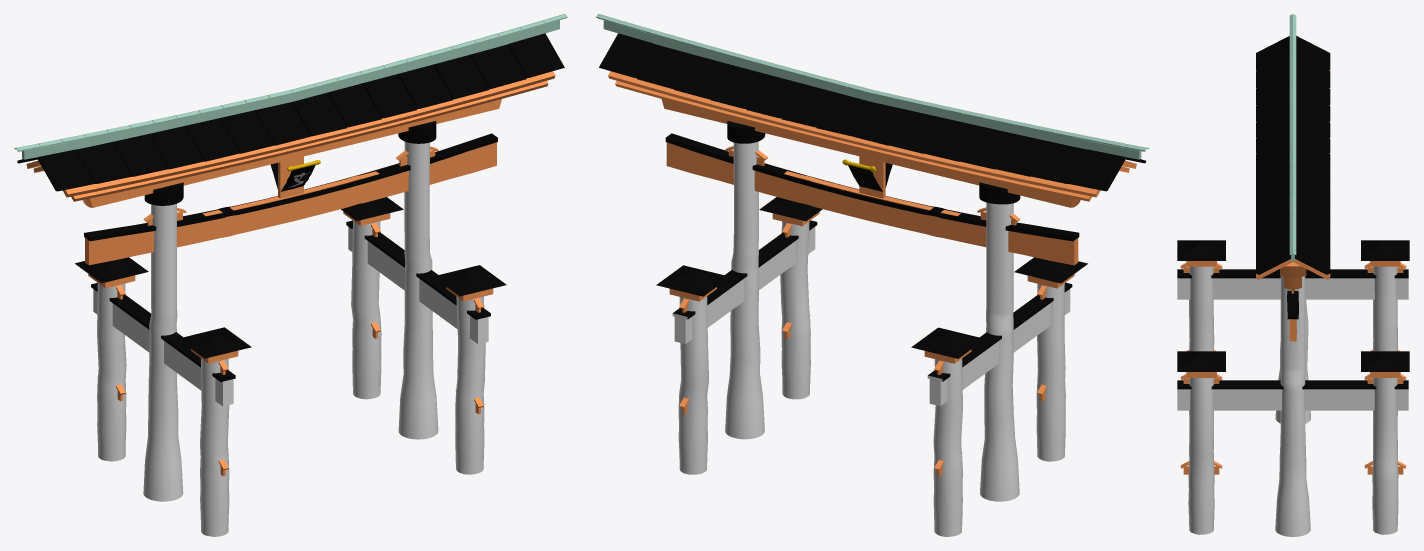
File: Gate3f.fbx
3 renders of one model, left to right at view 1: azimuth 30°, elevation 25°; view 2: azimuth 150°, elevation 25°; view 3: azimuth 270°, elevation 25°, orthographic. The views are drawn at different scales.
Visible parts, largest first — view 1: Cube.006, Cube.011, Cube.010, Cube.007, Cube.017, Cube.009, Cube.012, Cube.002, Cube.001, Cube.005, Cube.004, Cube.025 (+5 smaller); view 2: Cube.006, Cube.011, Cube.010, Cube.007, Cube.017, Cube.009, Cube.012, Cube.001, Cube.002, Cube.005, Cube.004, Cube.025 (+5 smaller); view 3: Cube.006, Cube.012, Cube.009, Cube.010, Cube.011, Cube.005, Cube.073, Plane.001, Cube.001, Cube.016, Cube.017, Cube.025.
Part boxes in pixels (<box>): Cube.006: <box>17,33,564,191</box>; Cube.011: <box>97,221,381,461</box>; Cube.010: <box>200,296,485,536</box>; Cube.007: <box>85,142,496,265</box>; Cube.017: <box>143,203,183,501</box>; Cube.009: <box>398,141,438,439</box>; Cube.012: <box>93,227,488,406</box>; Cube.002: <box>22,20,559,159</box>; Cube.001: <box>82,99,501,363</box>; Cube.005: <box>75,197,506,358</box>; Cube.004: <box>26,71,555,197</box>; Cube.025: <box>84,133,497,241</box>; Cube.006: <box>599,33,1145,191</box>; Cube.011: <box>678,296,962,536</box>; Cube.010: <box>780,221,1065,461</box>; Cube.007: <box>666,142,1078,265</box>; Cube.017: <box>980,202,1019,501</box>; Cube.009: <box>725,141,764,439</box>; Cube.012: <box>672,227,1070,406</box>; Cube.001: <box>661,99,1080,371</box>; Cube.002: <box>603,20,1141,159</box>; Cube.005: <box>656,197,1087,358</box>; Cube.004: <box>608,71,1136,197</box>; Cube.025: <box>665,133,1079,241</box>; Cube.006: <box>1256,36,1330,274</box>; Cube.012: <box>1177,278,1408,410</box>; Cube.009: <box>1275,276,1310,536</box>; Cube.010: <box>1188,266,1214,534</box>; Cube.011: <box>1372,266,1398,534</box>; Cube.005: <box>1177,240,1409,371</box>; Cube.073: <box>1177,269,1408,389</box>; Plane.001: <box>1289,14,1296,255</box>; Cube.001: <box>1186,261,1406,377</box>; Cube.016: <box>1180,263,1406,474</box>; Cube.017: <box>1275,299,1310,423</box>; Cube.025: <box>1287,290,1298,319</box>.
Bounding box in the file's own units: 4616 × 3063 × 1895.
